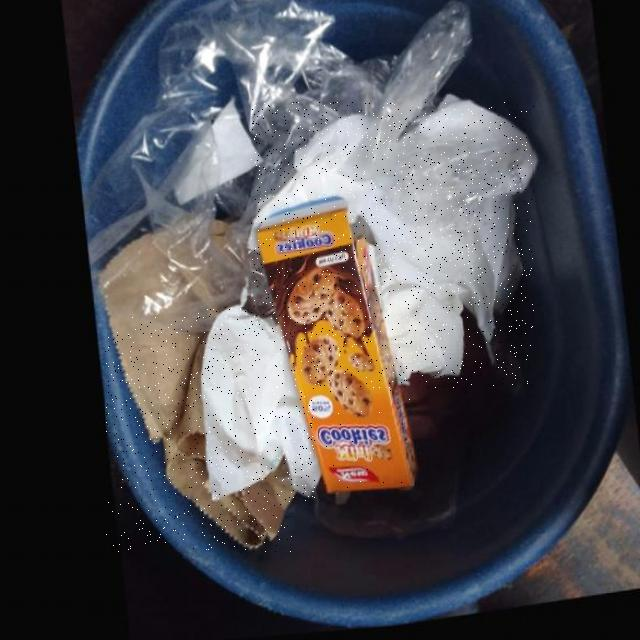paper: (252, 102, 534, 388), (253, 204, 413, 498), (106, 318, 292, 552), (197, 307, 315, 503)
